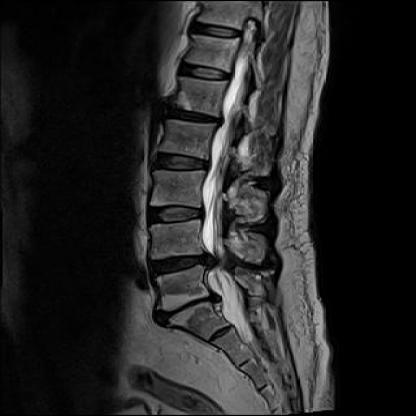Degenerative Disc Diseaserotation: (144, 249, 221, 282), (144, 293, 233, 320)
Disc Bulgerotation: (145, 249, 220, 282), (145, 295, 233, 319)
Disc Relaxationrotation: (142, 199, 209, 230), (161, 102, 225, 133), (149, 149, 213, 180)
